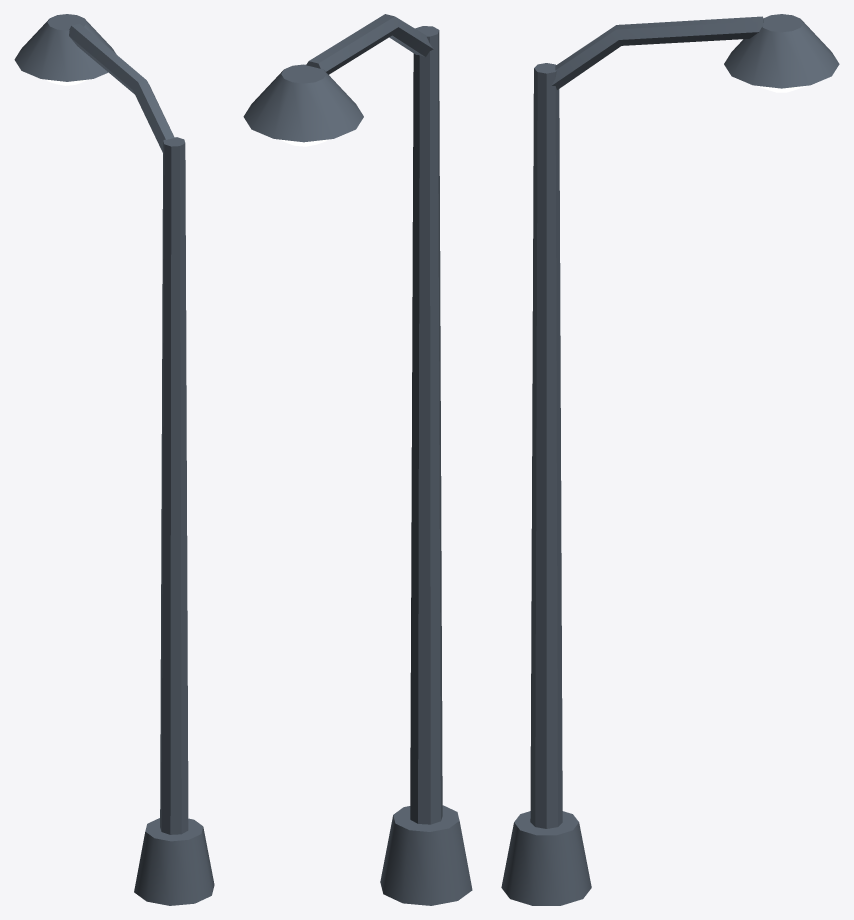
The model's file is lamp_post.glb.
The picture shows the model from 3 angles, left to right: view 1: azimuth 30°, elevation 25°; view 2: azimuth 150°, elevation 25°; view 3: azimuth 270°, elevation 25°; orthographic projection. The views are drawn at different scales.
Visible parts, largest first — view 1: lamp_post; view 2: lamp_post; view 3: lamp_post.
Boxes of the visible parts, <box> form: lamp_post: <box>14,14,214,905</box>; lamp_post: <box>243,14,472,905</box>; lamp_post: <box>501,14,839,905</box>.
Bounding box in the file's own units: 0.64 × 5.3 × 1.87.
